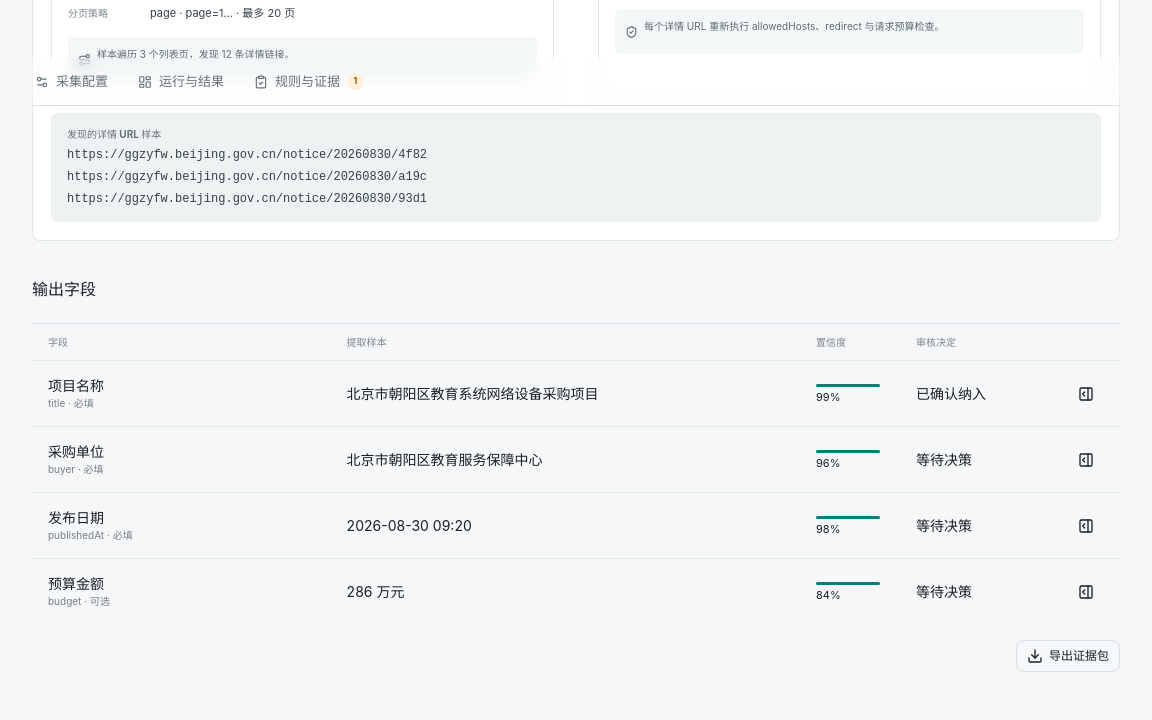
Test: keeps published field evidence reachable read-only and labels JSON honestly
The image size is (1152, 720).
(page scrolled)
Click the 2nd button at [1086, 394], box [1072,380,1100,408]
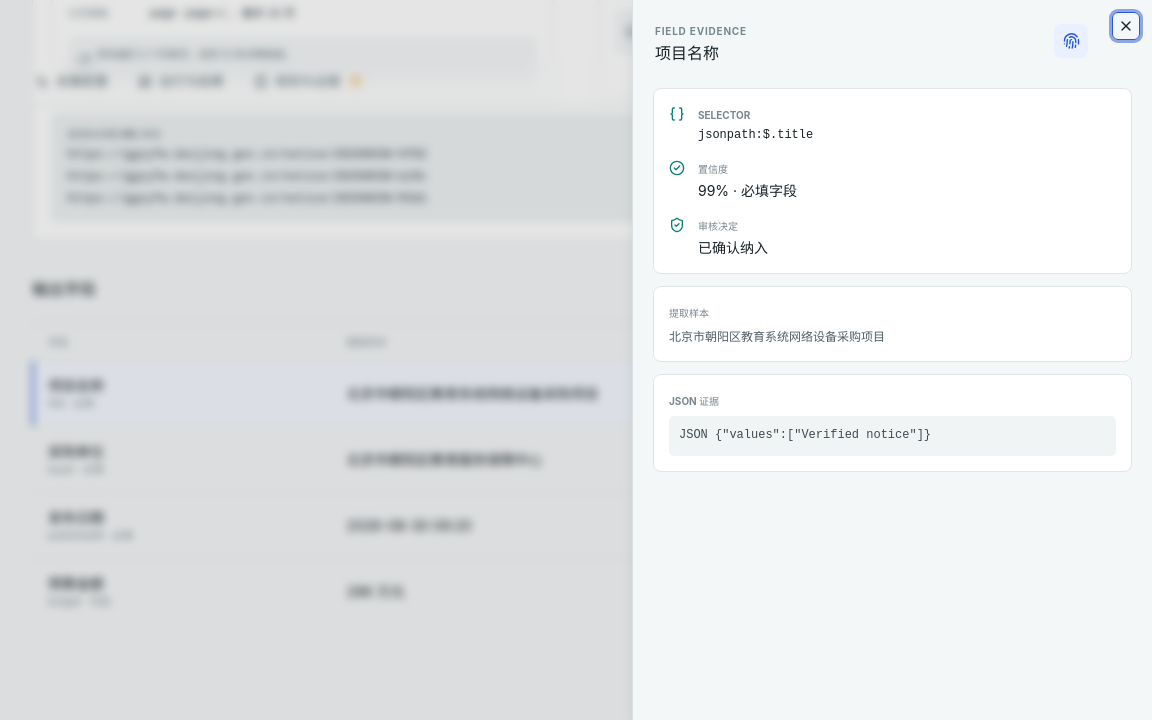
Now the text "JSON 证据" is shown, box [669,395,719,407]
Now the text "JSON {\"values\":[\"Verified notice\"]}" is shown, box [669,416,1116,456]
